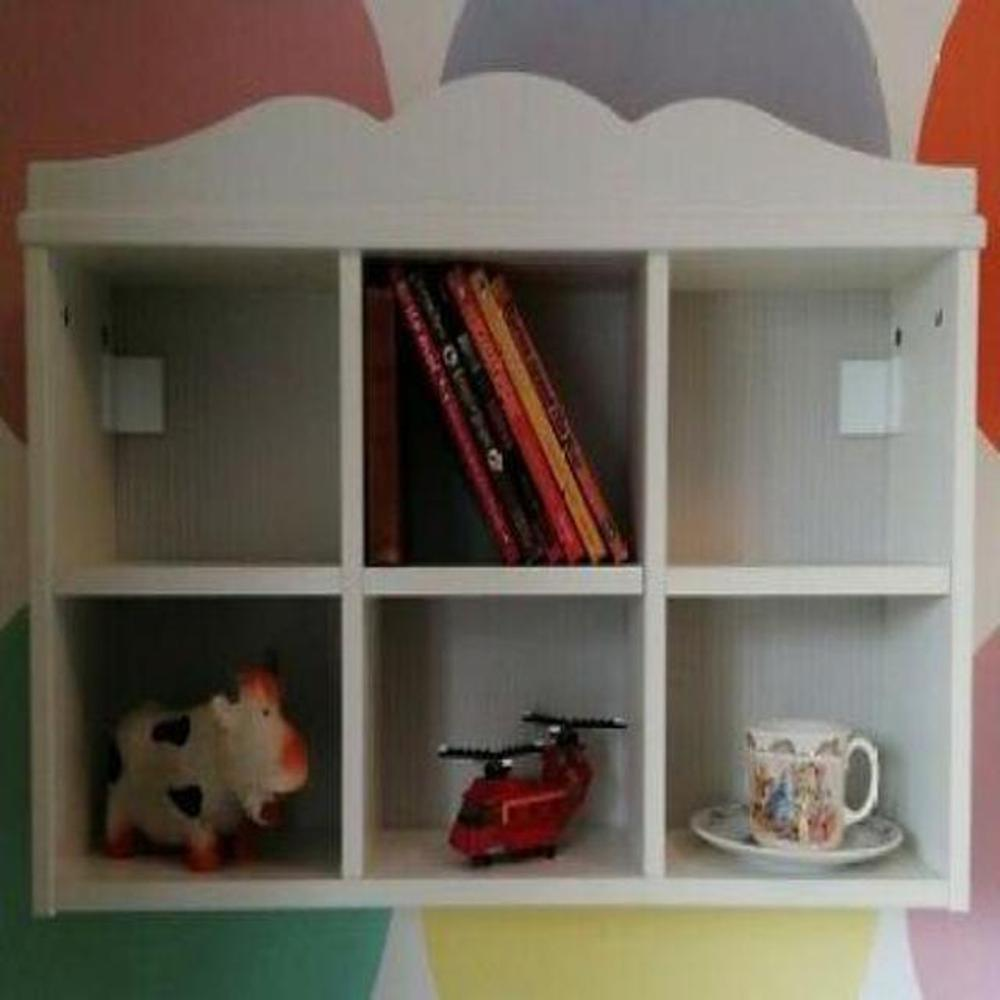lamp: (16, 72, 984, 919)
